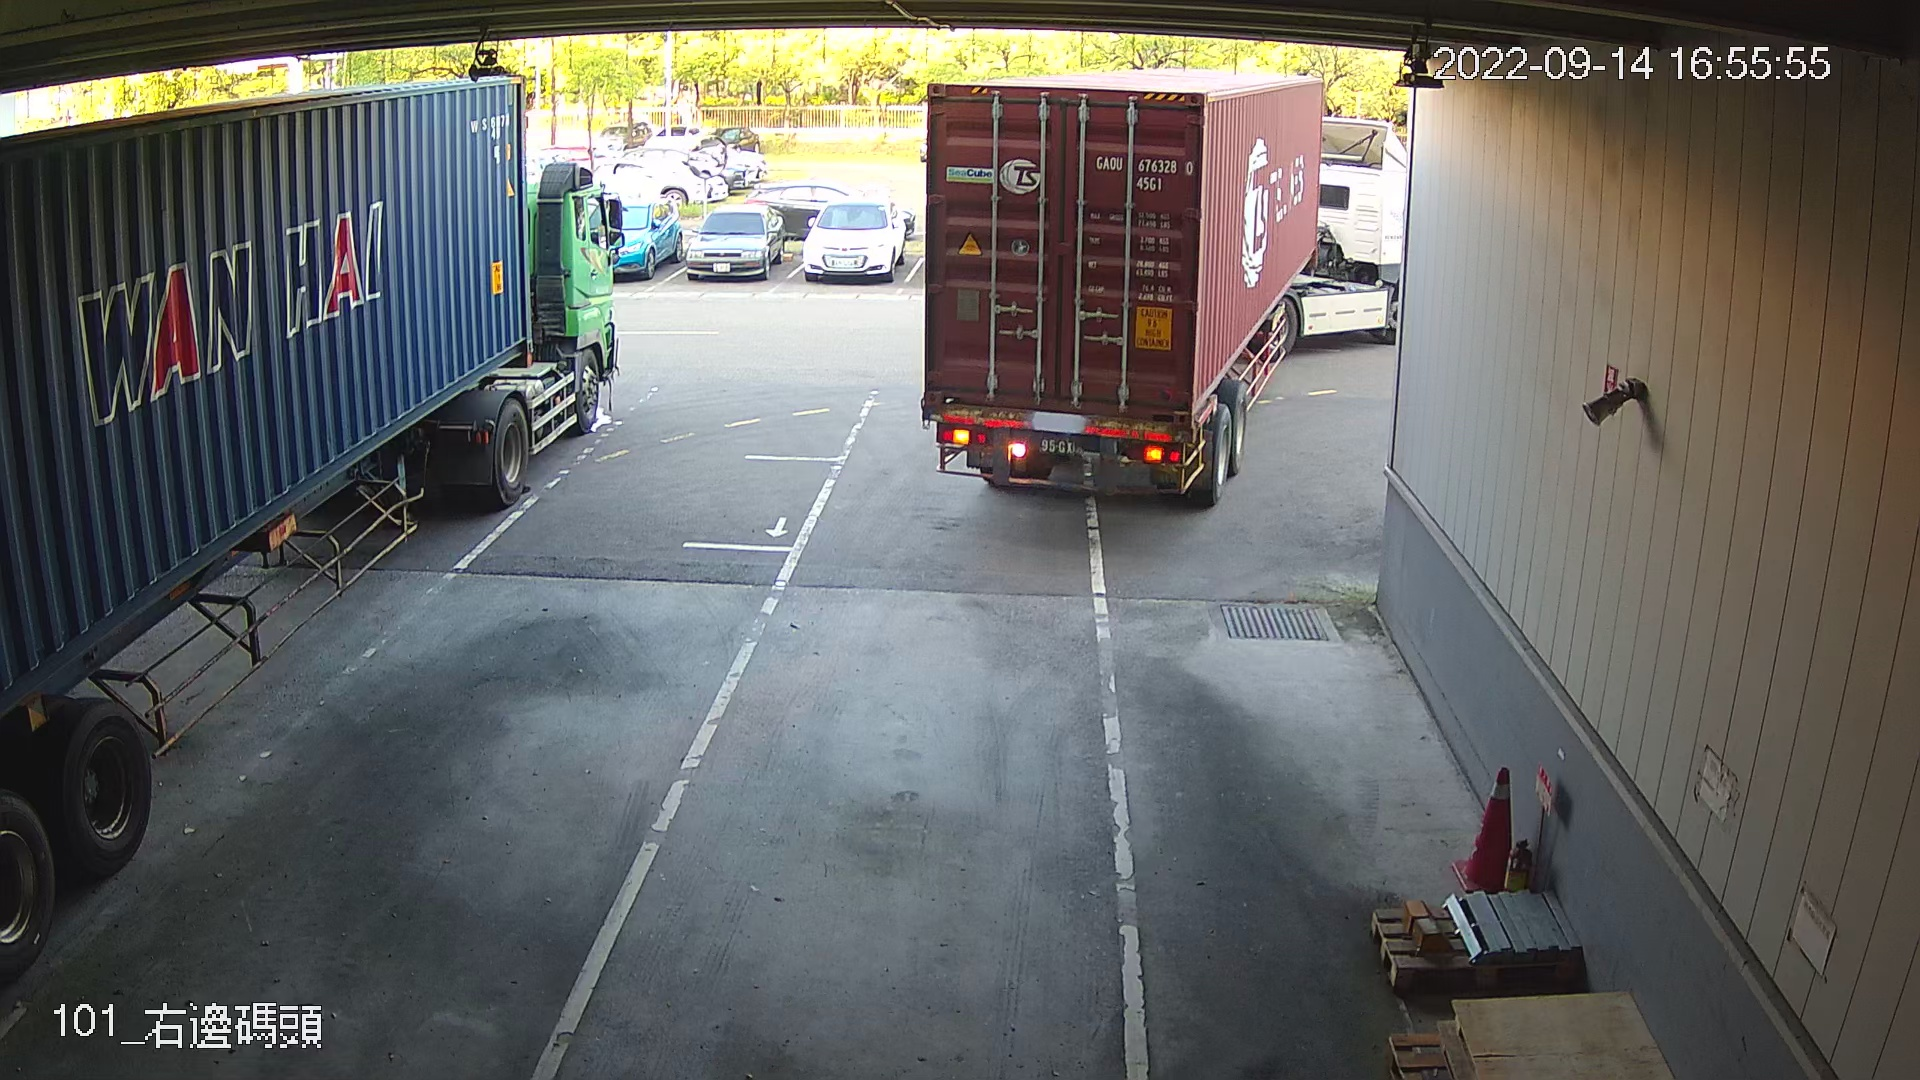container: (1092, 148, 1197, 196)
